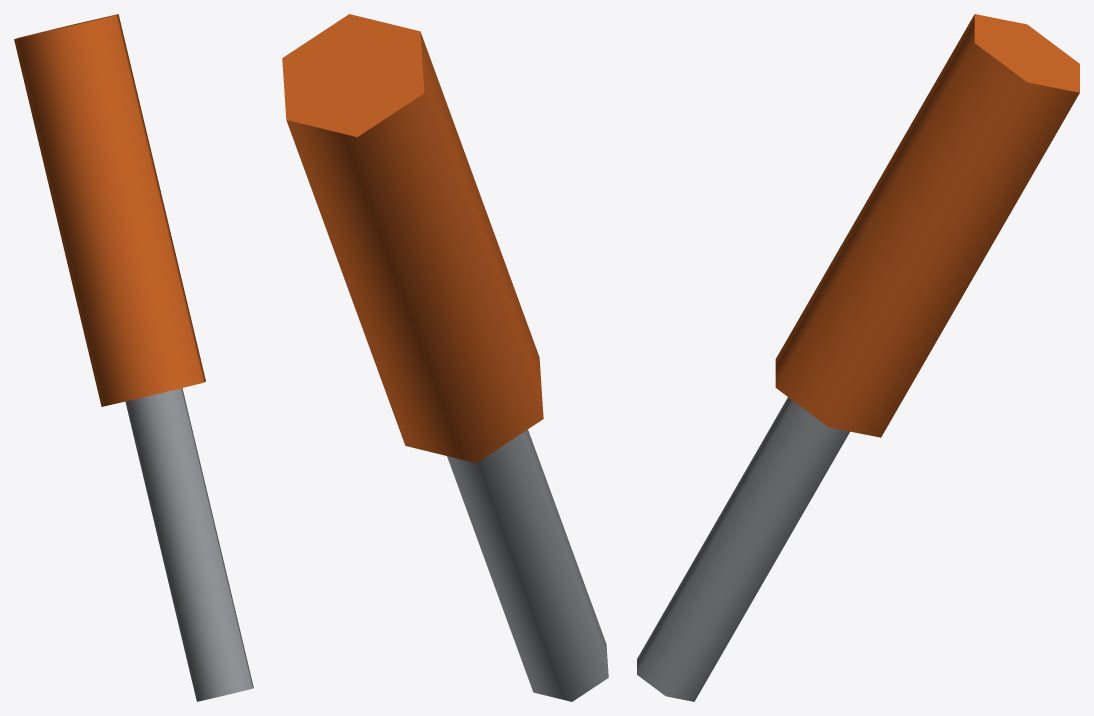
Rendered from po4_actuator.obj.
3 views of the same model, side by side, from view 1: azimuth 30°, elevation 25°; view 2: azimuth 150°, elevation 25°; view 3: azimuth 270°, elevation 25° (orthographic). The views are drawn at different scales.
Visible parts, largest first — view 1: po4_actuator; view 2: po4_actuator; view 3: po4_actuator.
Boxes of the visible parts, x1=… form: po4_actuator: x1=14, y1=14, x2=253, y2=701; po4_actuator: x1=282, y1=14, x2=608, y2=701; po4_actuator: x1=637, y1=14, x2=1079, y2=701.
Bounding box in the file's own units: 0.22 × 1.18 × 0.7105.
